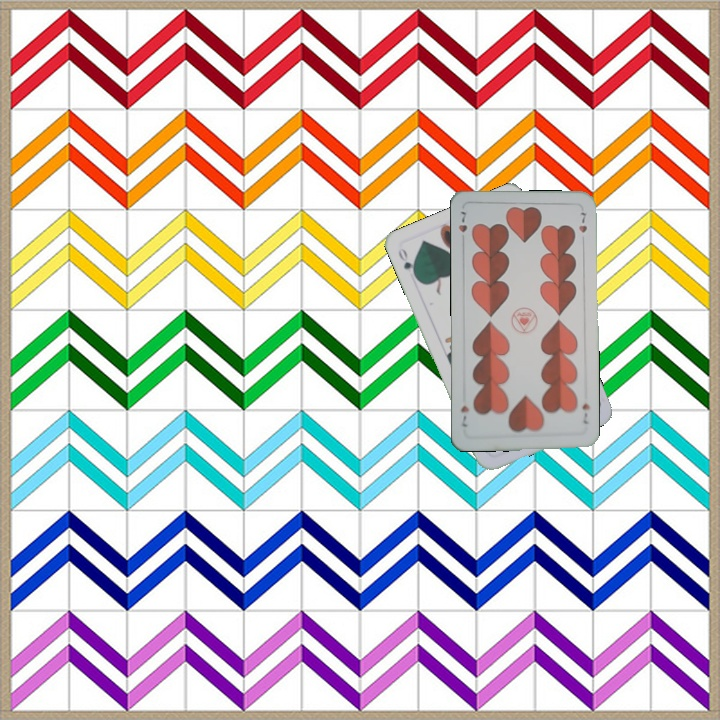GO: (394, 244, 419, 281)
H7: (455, 207, 470, 246), (578, 399, 592, 426)
